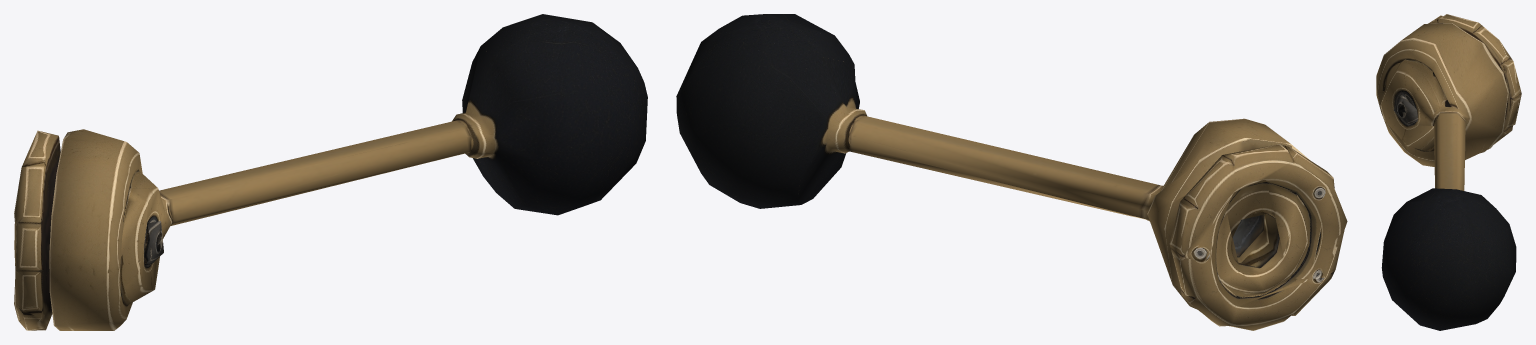
The model's file is razryad-rychag.glb.
The picture shows the model from 3 angles, left to right: view 1: azimuth 30°, elevation 25°; view 2: azimuth 150°, elevation 25°; view 3: azimuth 270°, elevation 25°; orthographic projection. The views are drawn at different scales.
Visible parts, largest first — view 1: razryad-rychag; view 2: razryad-rychag; view 3: razryad-rychag.
Part boxes in pixels (x1,y1,x2,y2): razryad-rychag: [14, 14, 647, 330]; razryad-rychag: [676, 14, 1347, 330]; razryad-rychag: [1376, 14, 1521, 330].
Bounding box in the file's own units: 0.275 × 0.075 × 0.075.
1 material, 1 textured.
